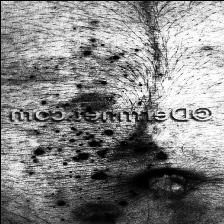Potentially Malignant Skin Tumors: (25, 125, 186, 221), (16, 30, 146, 105)
